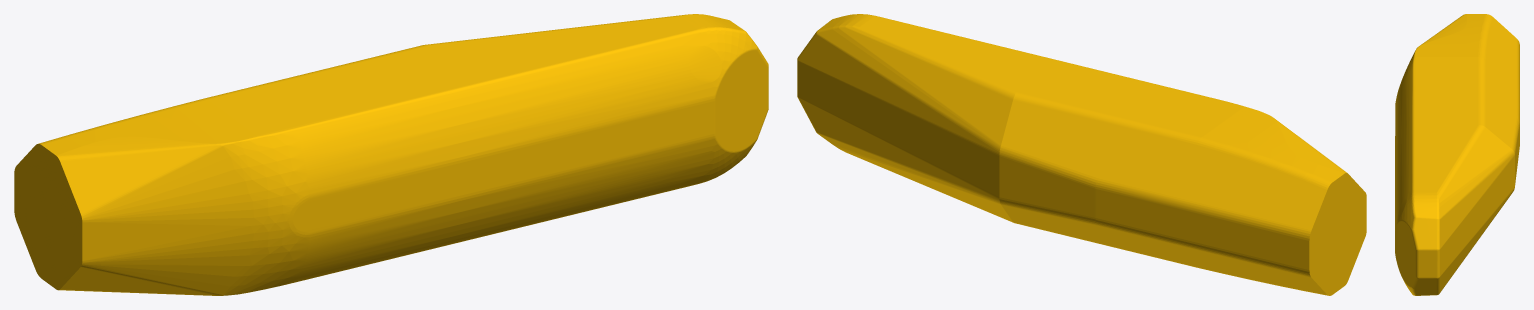
3 renders of one model, left to right at view 1: azimuth 30°, elevation 25°; view 2: azimuth 150°, elevation 25°; view 3: azimuth 270°, elevation 25°, orthographic. The views are drawn at different scales.
Parts seen in each view (by area): view 1: Link 4.001; view 2: Link 4.001; view 3: Link 4.001.
Part boxes in pixels (x1=…): Link 4.001: x1=14, y1=14, x2=768, y2=295; Link 4.001: x1=797, y1=14, x2=1366, y2=295; Link 4.001: x1=1395, y1=14, x2=1519, y2=295.
Size of the model in its own units: 0.6855 by 0.174 by 0.15.
